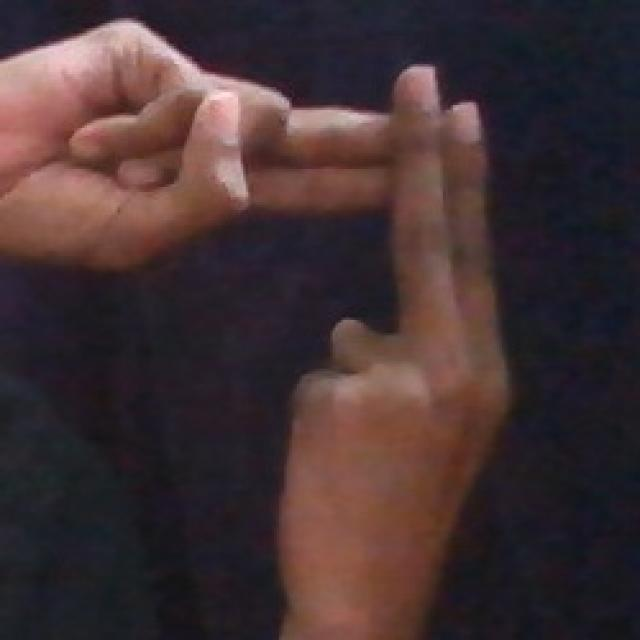Alphabet-F: (21, 10, 518, 608)
